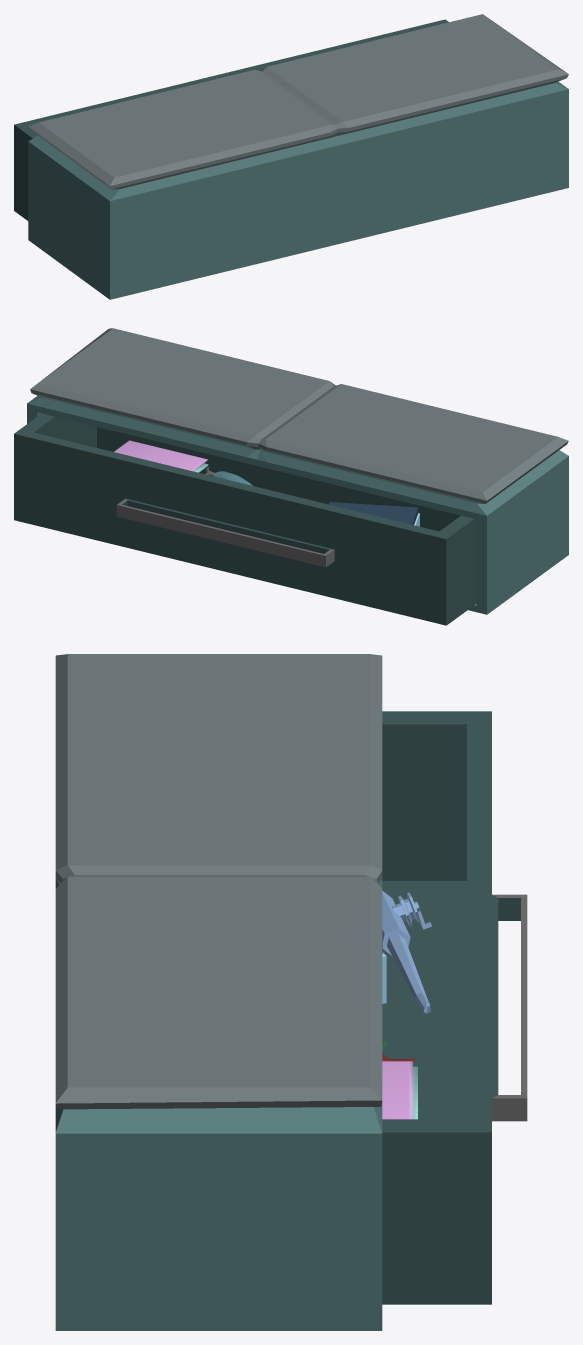
Rendered from storage_seat.glb.
3 renders of one model, top to bottom at view 1: azimuth 30°, elevation 25°; view 2: azimuth 150°, elevation 25°; view 3: azimuth 270°, elevation 25°, orthographic. The views are drawn at different scales.
Parts seen in each view (by area): view 1: seatStorage, storage; view 2: seatStorage, storage, cloth, tool box; view 3: seatStorage, storage, fishing pole, cloth.
Part boxes in pixels (left/top/right/bottom): seatStorage: left=28, top=14, right=568, bottom=299; storage: left=14, top=19, right=448, bottom=220; seatStorage: left=27, top=328, right=568, bottom=614; storage: left=14, top=413, right=476, bottom=625; cloth: left=114, top=440, right=208, bottom=472; tool box: left=329, top=502, right=419, bottom=526; seatStorage: left=55, top=654, right=382, bottom=1330; storage: left=382, top=711, right=527, bottom=1304; fishing pole: left=382, top=891, right=431, bottom=1013; cloth: left=382, top=1061, right=417, bottom=1119.
Size of the model in its own units: 4.56 by 1.12 by 2.03.
